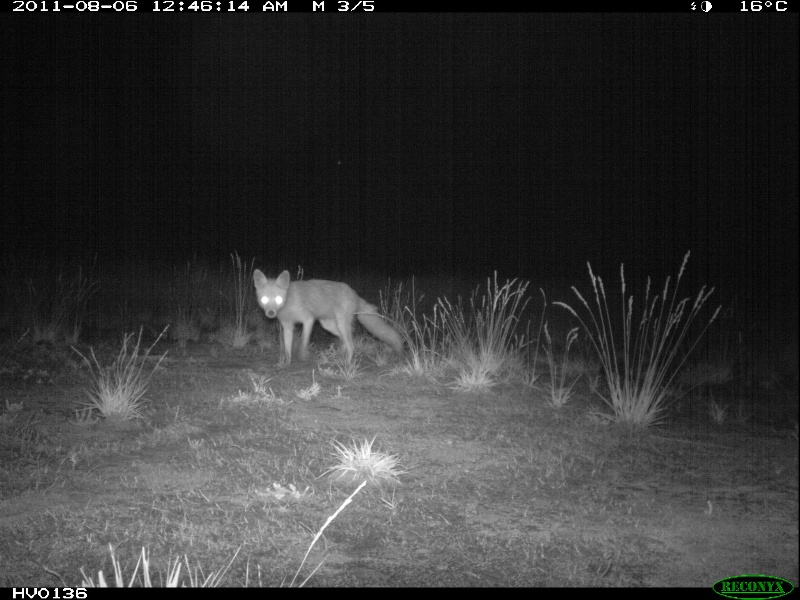fox: (249, 264, 412, 369)
